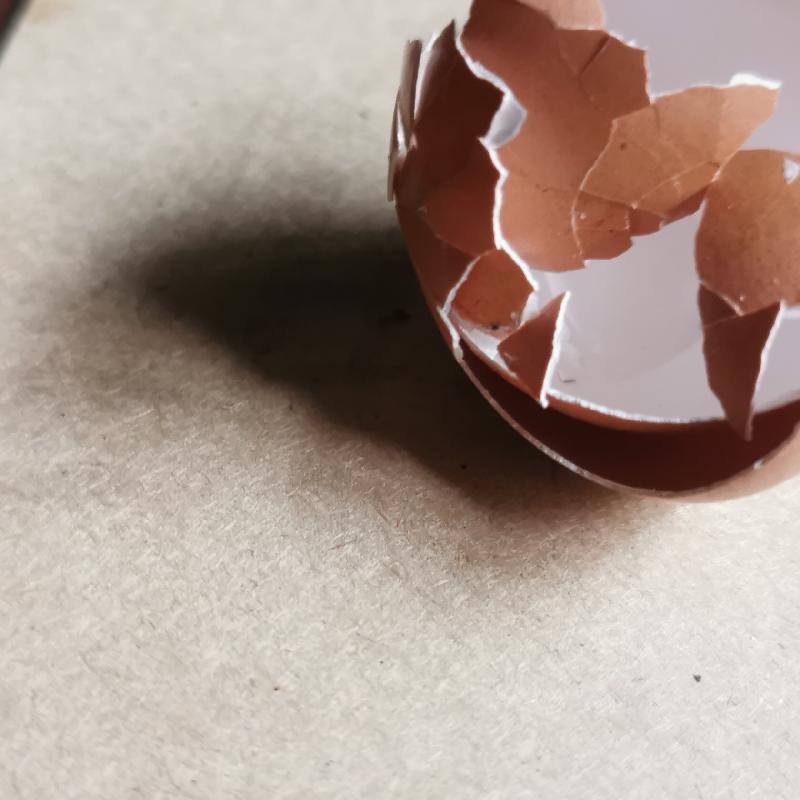eggshell: (390, 0, 800, 511)
